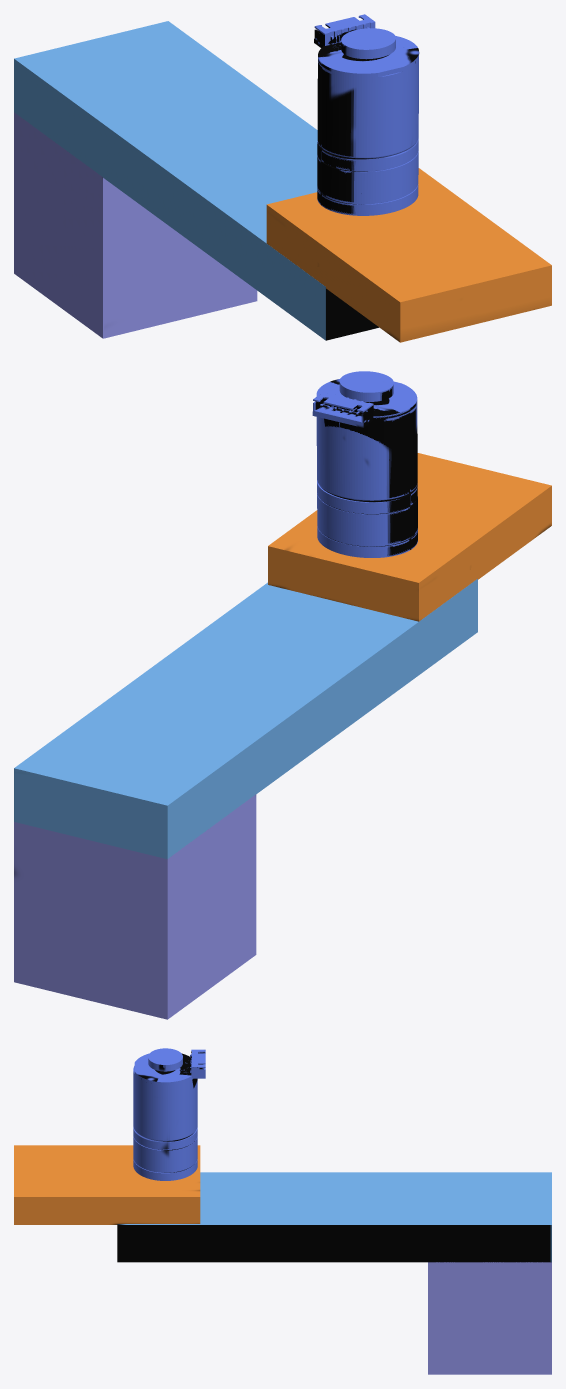
File: crane.dae
The picture shows the model from 3 angles, top to bottom: view 1: azimuth 30°, elevation 25°; view 2: azimuth 150°, elevation 25°; view 3: azimuth 270°, elevation 25°; orthographic projection. The views are drawn at different scales.
Parts seen in each view (by area): view 1: crane hand, gear, crane stand, 12V 350RPM Small DFRobot Motor v8; view 2: crane hand, crane stand, gear, 12V 350RPM Small DFRobot Motor v8; view 3: crane hand, crane stand, gear, 12V 350RPM Small DFRobot Motor v8.
Boxes of the visible parts, left/top/right/bottom form: crane hand: left=14, top=21, right=378, bottom=340; gear: left=266, top=168, right=551, bottom=342; crane stand: left=14, top=112, right=257, bottom=338; 12V 350RPM Small DFRobot Motor v8: left=314, top=14, right=419, bottom=215; crane hand: left=14, top=579, right=477, bottom=859; crane stand: left=14, top=794, right=256, bottom=1019; gear: left=268, top=453, right=551, bottom=621; 12V 350RPM Small DFRobot Motor v8: left=312, top=371, right=417, bottom=557; crane hand: left=117, top=1172, right=551, bottom=1262; crane stand: left=428, top=1262, right=551, bottom=1374; gear: left=14, top=1145, right=200, bottom=1224; 12V 350RPM Small DFRobot Motor v8: left=133, top=1048, right=205, bottom=1180.
Size of the model in its own units: 0.06 by 0.26 by 0.1556.
Materials: 4 (4 with a texture image).
